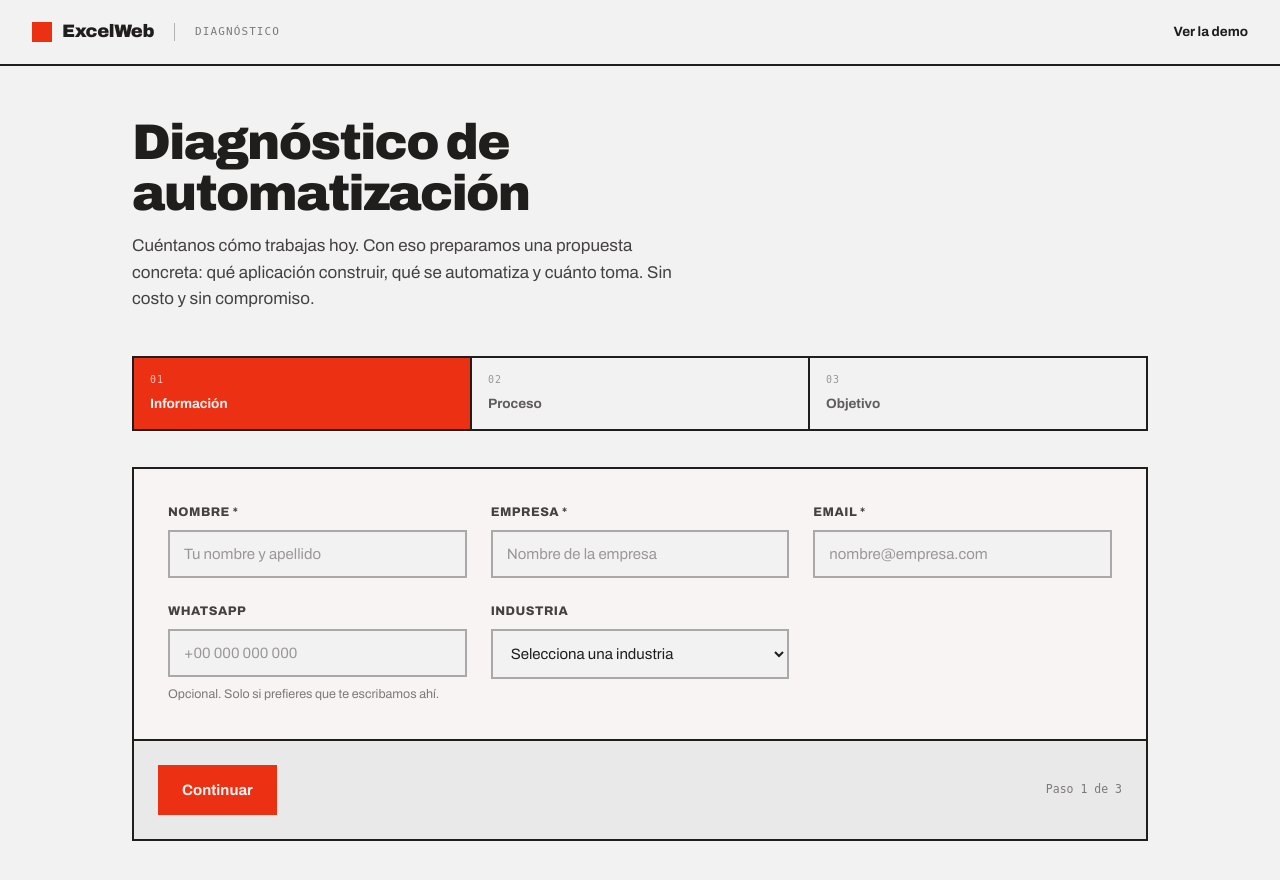
Test: Diagnostico form › submits successfully and shows the confirmation page
The width and height of the screenshot is (1280, 880).
Type "Ana Torres" into the field labelled "Nombre *" at coordinates (317, 554), box left=168, top=530, right=467, bottom=578
Type "Ferretería Andes" into the field labelled "Empresa *" at coordinates (640, 554), box left=491, top=530, right=789, bottom=578
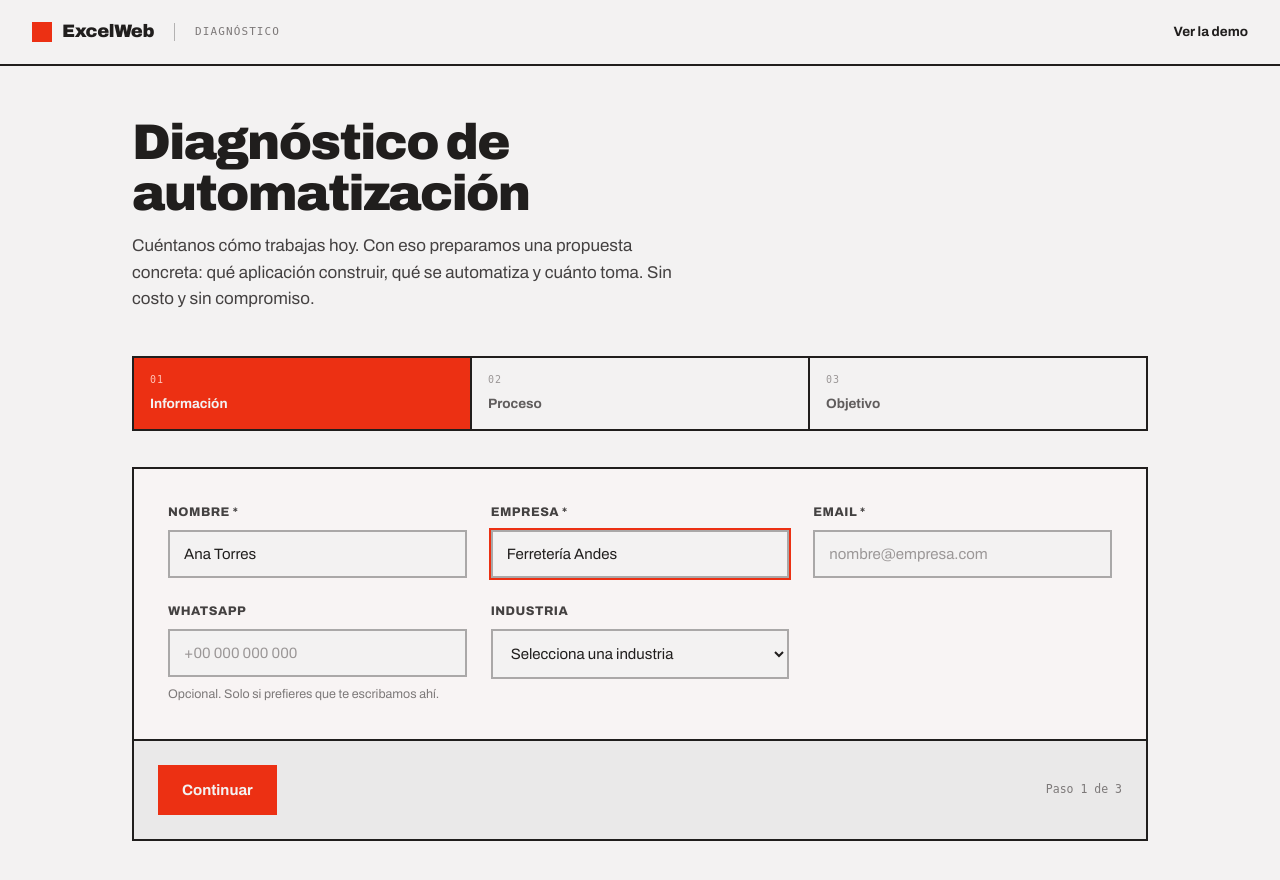
Type "ana@andes.cl" into the field labelled "Email *" at coordinates (963, 554), box left=813, top=530, right=1112, bottom=578
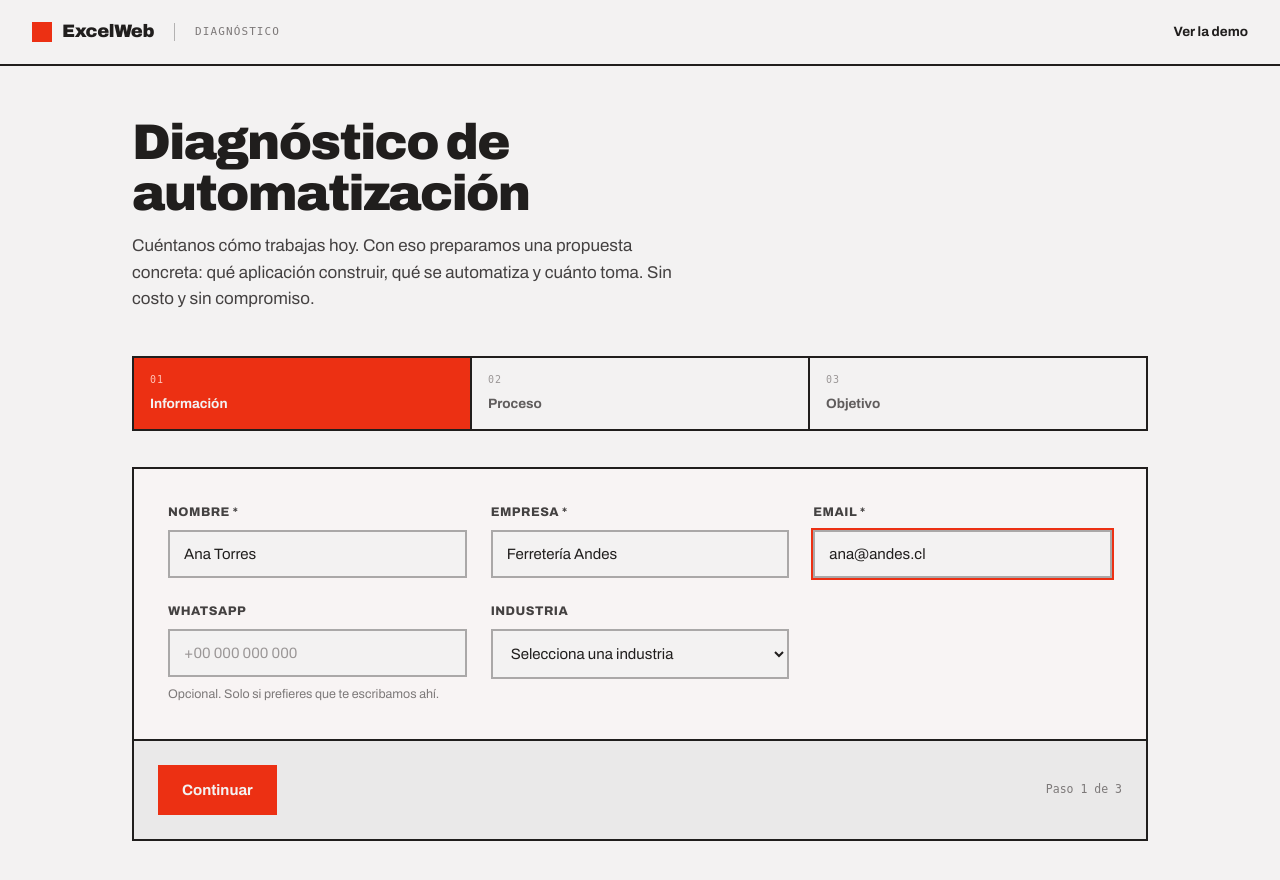
Click the button "Continuar" at coordinates (217, 790), box left=158, top=765, right=277, bottom=815
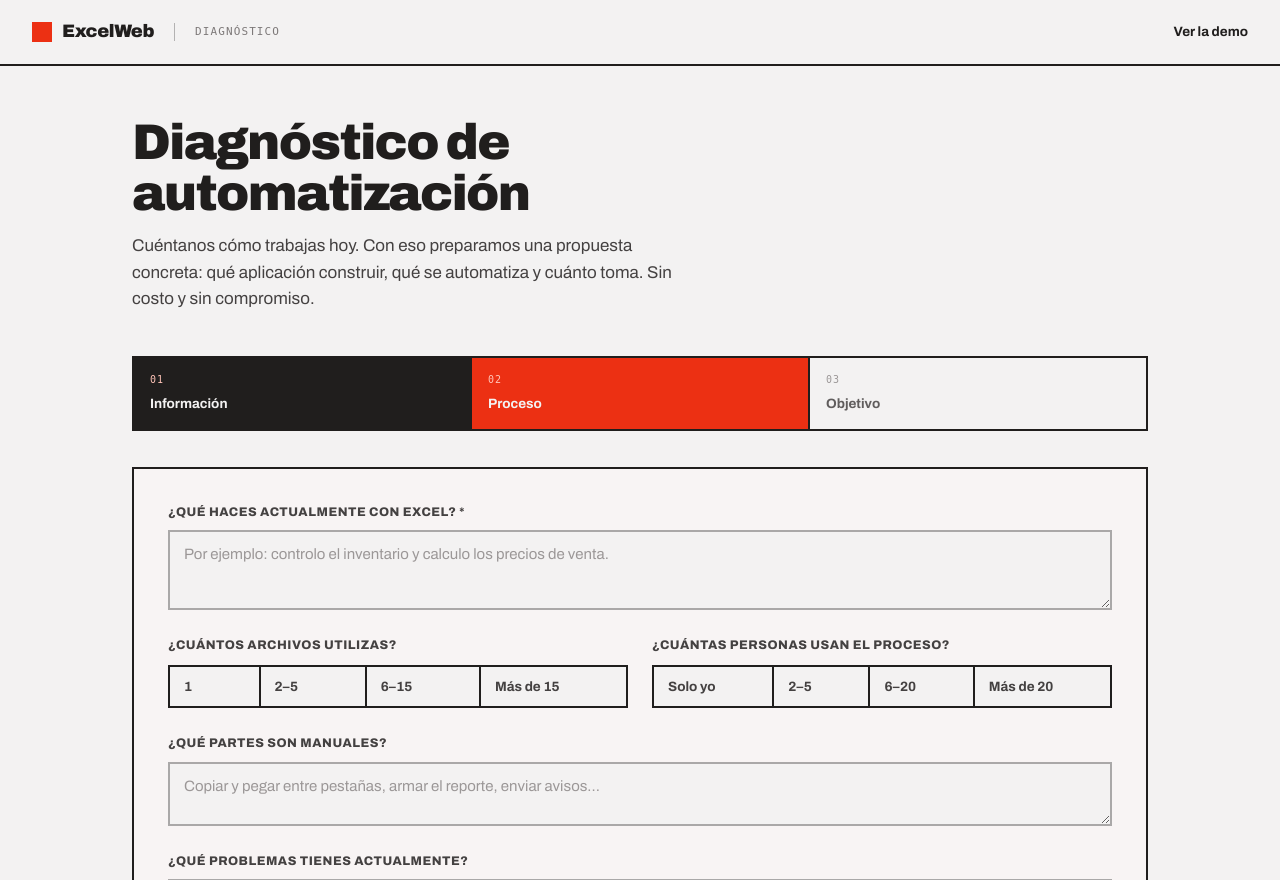
Type "Controlo el inventario en Excel." into the text box labelled "¿Qué haces actualmente con Excel? *" at coordinates (640, 570), box left=168, top=530, right=1112, bottom=610
(page scrolled)
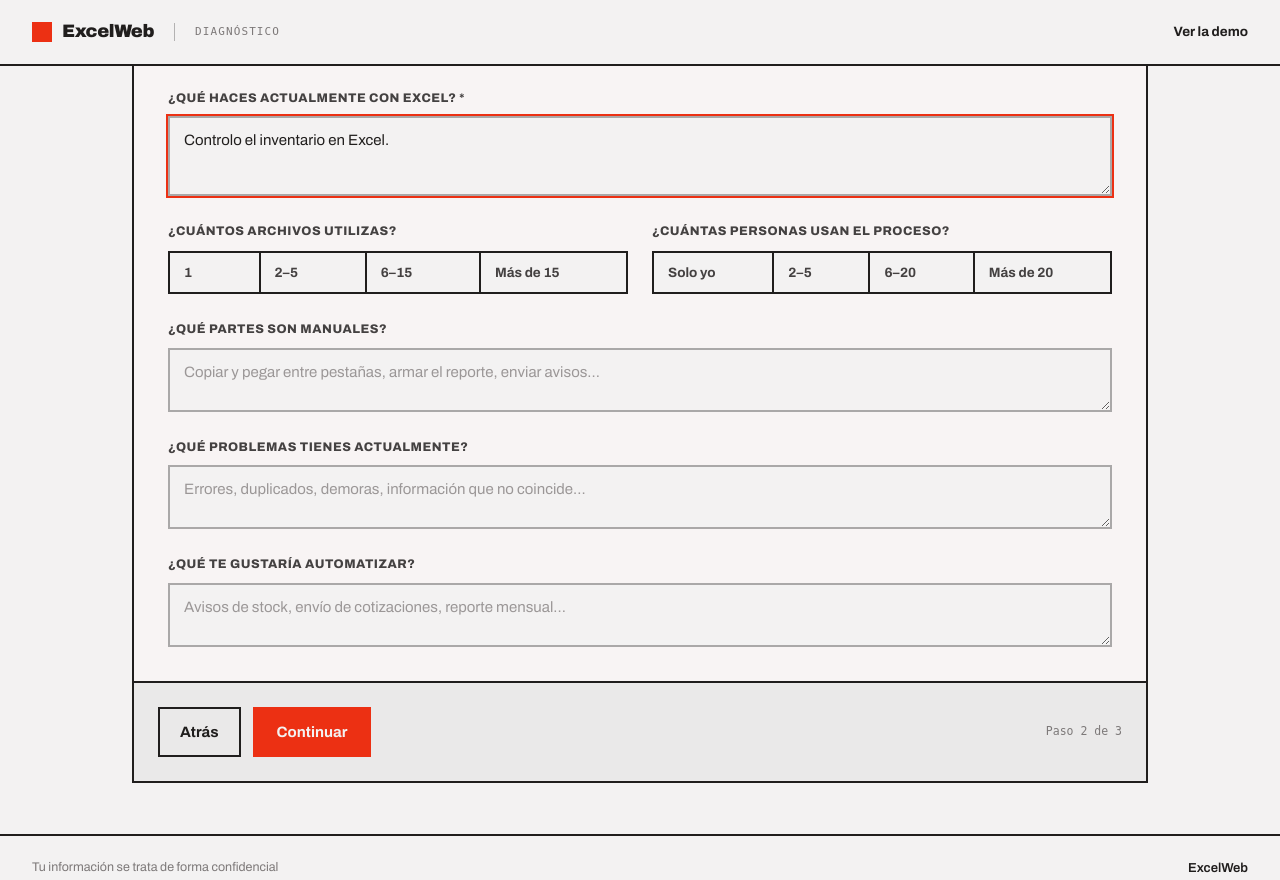
Click the button "Continuar" at coordinates (312, 732), box left=253, top=706, right=371, bottom=756
(page scrolled)
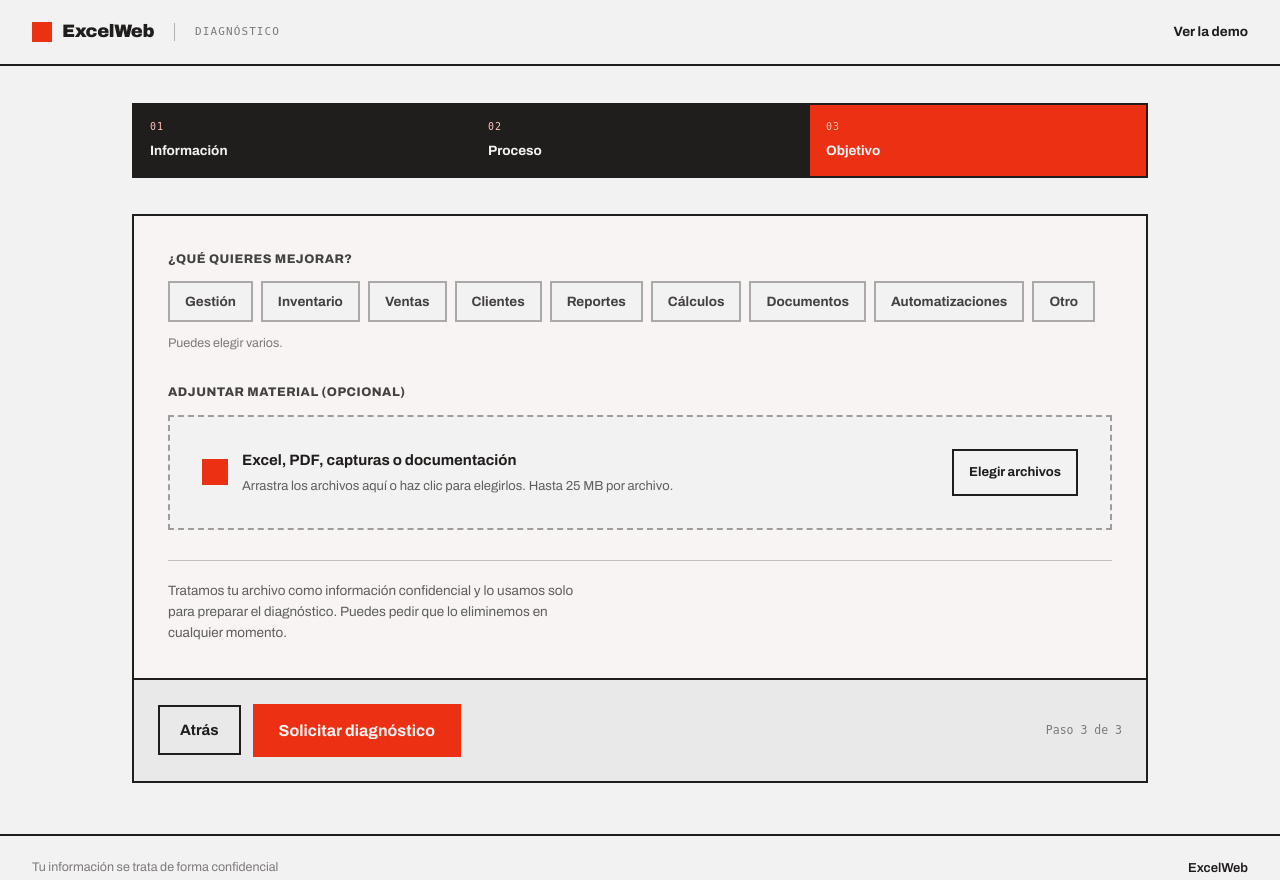
Click the button "Solicitar diagnóstico" at coordinates (357, 730), box left=253, top=704, right=461, bottom=757
(page scrolled)
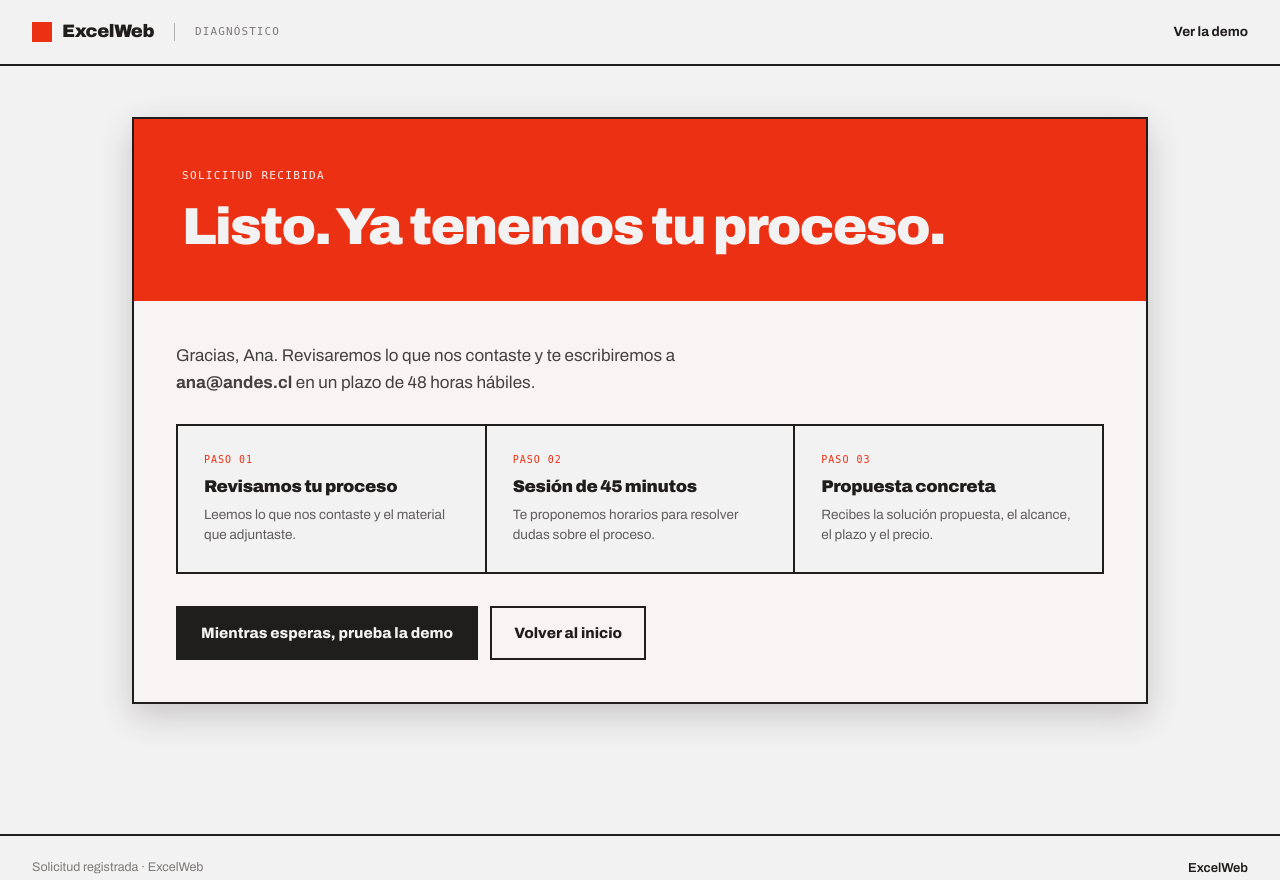
expect the heading "Listo. Ya tenemos tu proceso." is shown: met, box left=182, top=200, right=945, bottom=253
expect the text "Ana" is shown: met, box left=243, top=346, right=274, bottom=365
